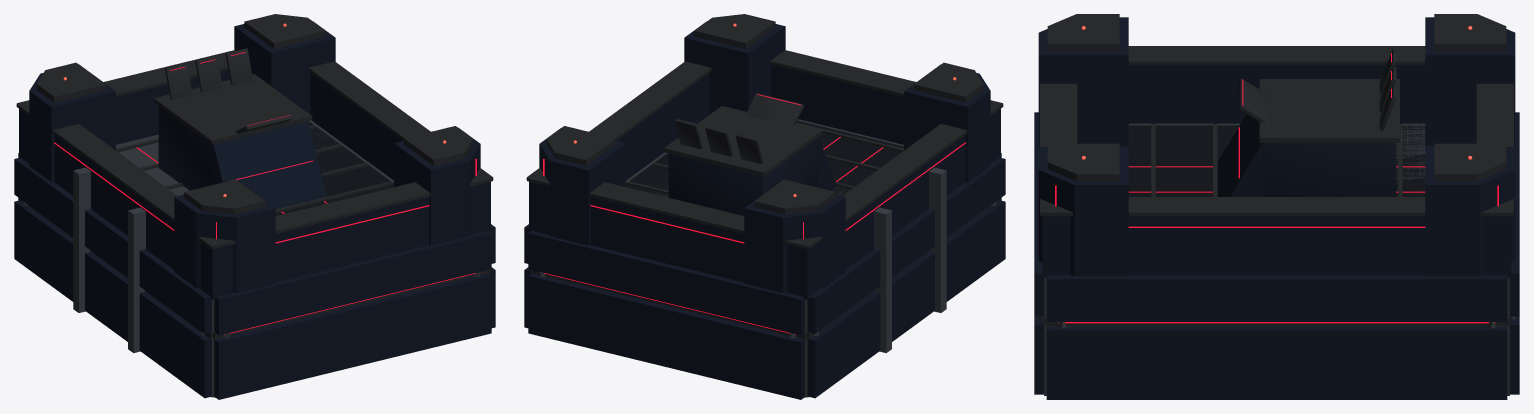
Rendered from hq_roof_r.gltf.
The picture shows the model from 3 angles, left to right: view 1: azimuth 30°, elevation 25°; view 2: azimuth 150°, elevation 25°; view 3: azimuth 270°, elevation 25°; orthographic projection. The views are drawn at different scales.
Parts seen in each view (by area): view 1: hull, graphite, fin, dark, panel, crimson; view 2: hull, graphite, fin, dark, crimson, panel; view 3: hull, graphite, dark, panel, crimson.
Boxes of the visible parts, x1,y1,x2,y2 form: hull: [14, 21, 495, 399]; graphite: [16, 14, 493, 339]; fin: [23, 167, 480, 353]; dark: [146, 121, 393, 215]; panel: [116, 120, 393, 397]; crimson: [54, 52, 480, 334]; hull: [524, 21, 1005, 399]; graphite: [526, 14, 1003, 339]; fin: [539, 167, 996, 353]; dark: [626, 120, 903, 197]; crimson: [539, 94, 965, 334]; panel: [626, 119, 903, 397]; hull: [1034, 17, 1519, 399]; graphite: [1040, 14, 1513, 325]; dark: [1120, 125, 1425, 196]; panel: [1044, 123, 1509, 395]; crimson: [1055, 53, 1498, 323].
Bounding box in the file's own units: 31.35 × 20.25 × 36.7.
